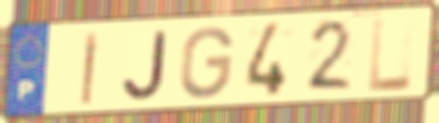2: (302, 16, 357, 97)
4: (243, 20, 290, 99)
G: (177, 24, 236, 102)
I: (79, 30, 102, 107)
J: (119, 28, 171, 103)
L: (367, 14, 414, 95)
